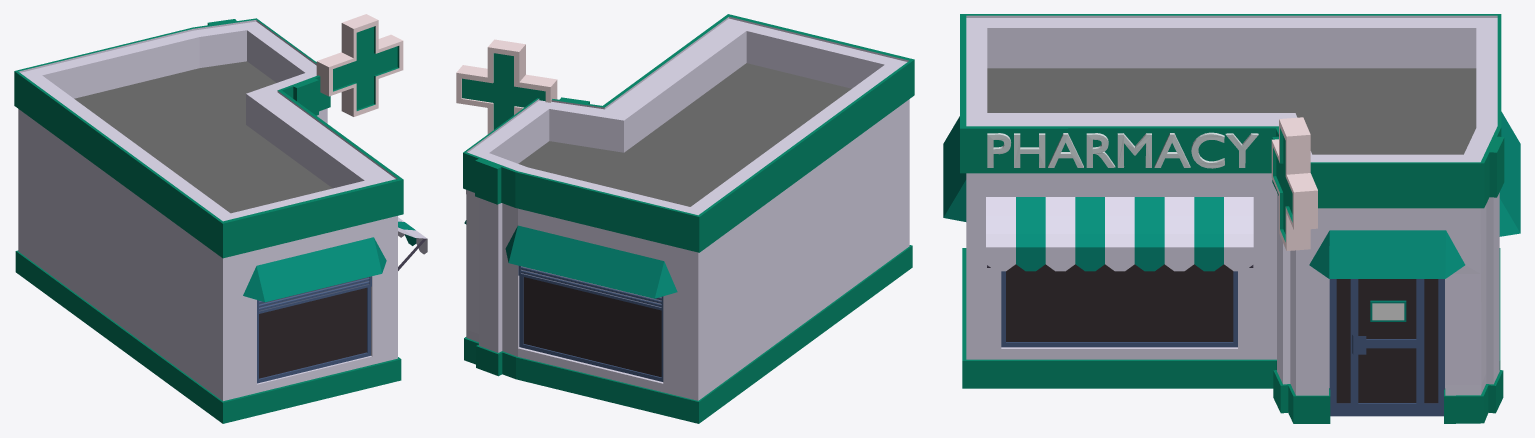
File: pharmacy_night.glb
The picture shows the model from 3 angles, left to right: view 1: azimuth 30°, elevation 25°; view 2: azimuth 150°, elevation 25°; view 3: azimuth 270°, elevation 25°; orthographic projection. The views are drawn at different scales.
Visible parts, largest first — view 1: PublicBuilding_Pharmacy; view 2: PublicBuilding_Pharmacy; view 3: PublicBuilding_Pharmacy.
Boxes of the visible parts, box(x1,y1,x2,y2) form: PublicBuilding_Pharmacy: box(14, 14, 427, 423); PublicBuilding_Pharmacy: box(456, 14, 914, 423); PublicBuilding_Pharmacy: box(943, 14, 1520, 423).
Size of the model in its own units: 0.727 by 0.5482 by 0.9061.
1 material, 1 textured.
